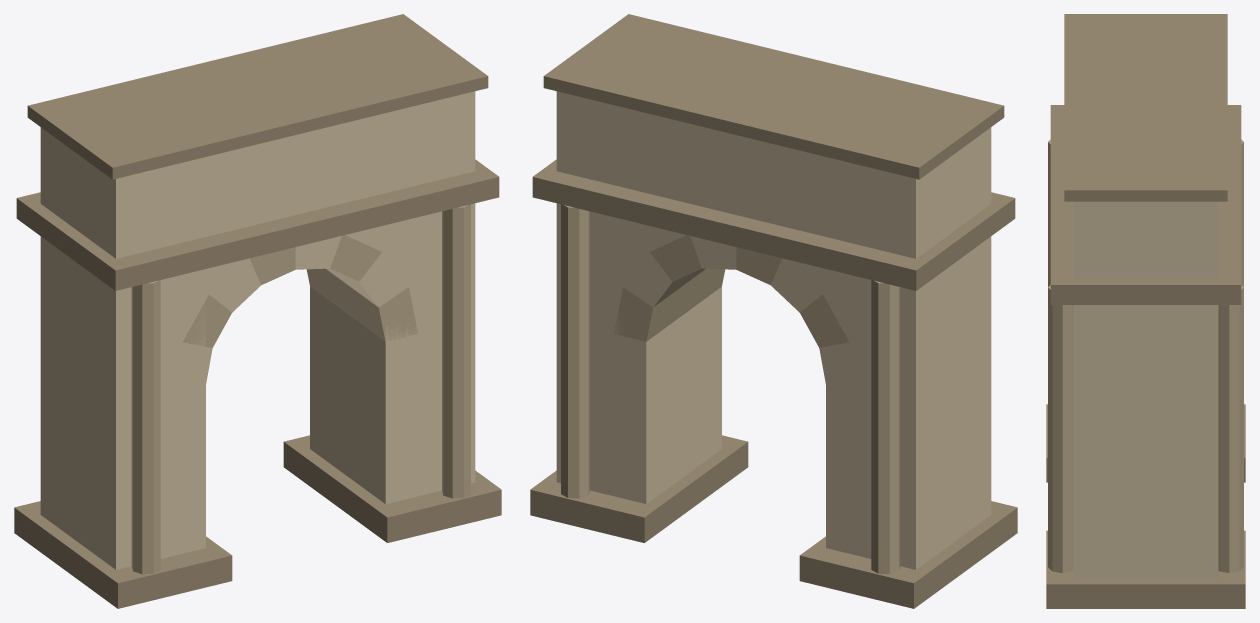
The model's file is triumphal_arch.glb.
3 views of the same model, side by side, from view 1: azimuth 30°, elevation 25°; view 2: azimuth 150°, elevation 25°; view 3: azimuth 270°, elevation 25° (orthographic). The views are drawn at different scales.
Parts seen in each view (by area): view 1: triumphal_arch2; view 2: triumphal_arch2; view 3: triumphal_arch2.
Part boxes in pixels (x1,y1,x2,y2): triumphal_arch2: (14,14,501,608); triumphal_arch2: (530,14,1017,608); triumphal_arch2: (1046,14,1245,608).
Bounding box in the file's own units: 4.7 × 5.07 × 2.2.
